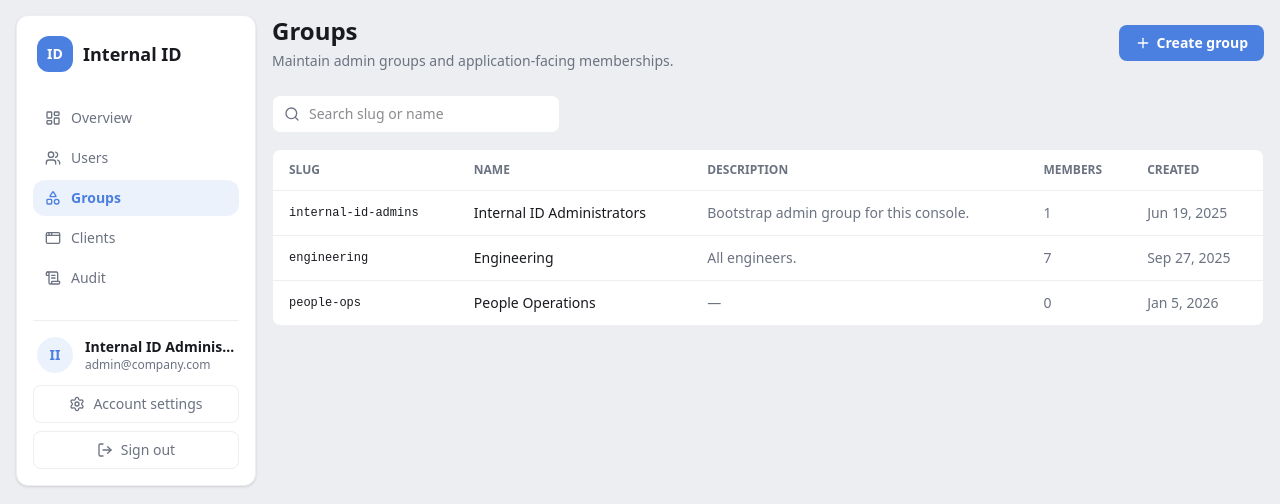
Test: search narrows the groups list
Expected: the text "Engineering" is shown, [458, 236, 691, 280]
Step 1. Type "people" into the search field named "Search groups" → {"x": 416, "y": 114}, box [272, 95, 560, 133]
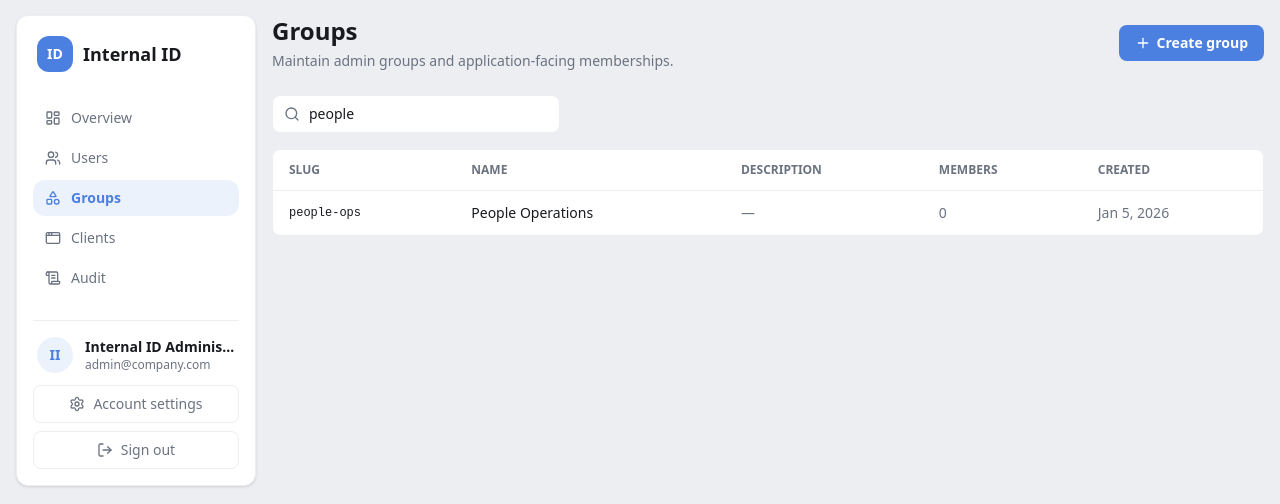
Expected: the text "People Operations" is shown, [455, 190, 725, 235]
Expected: the link "engineering" is gone
